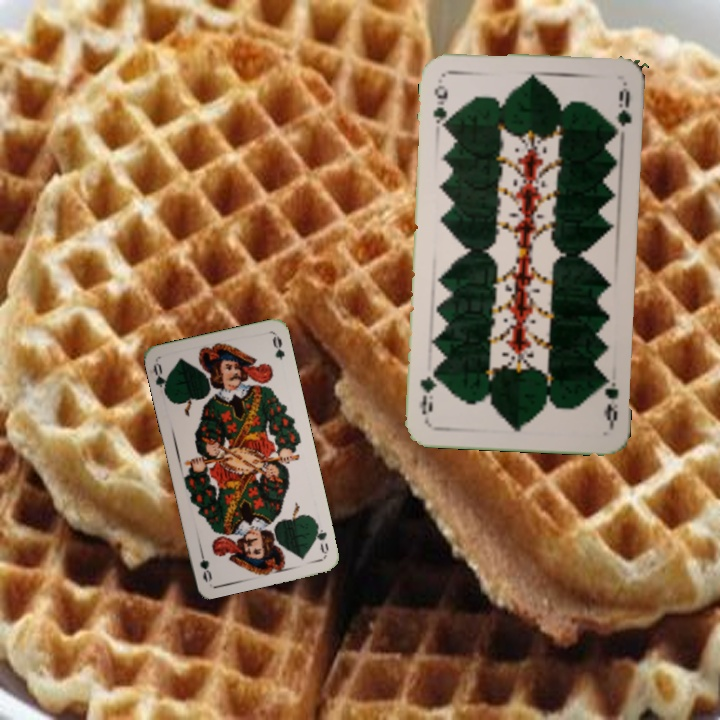G9: (597, 370, 621, 430), (429, 81, 451, 132)
GO: (149, 359, 171, 399), (311, 517, 331, 557)
